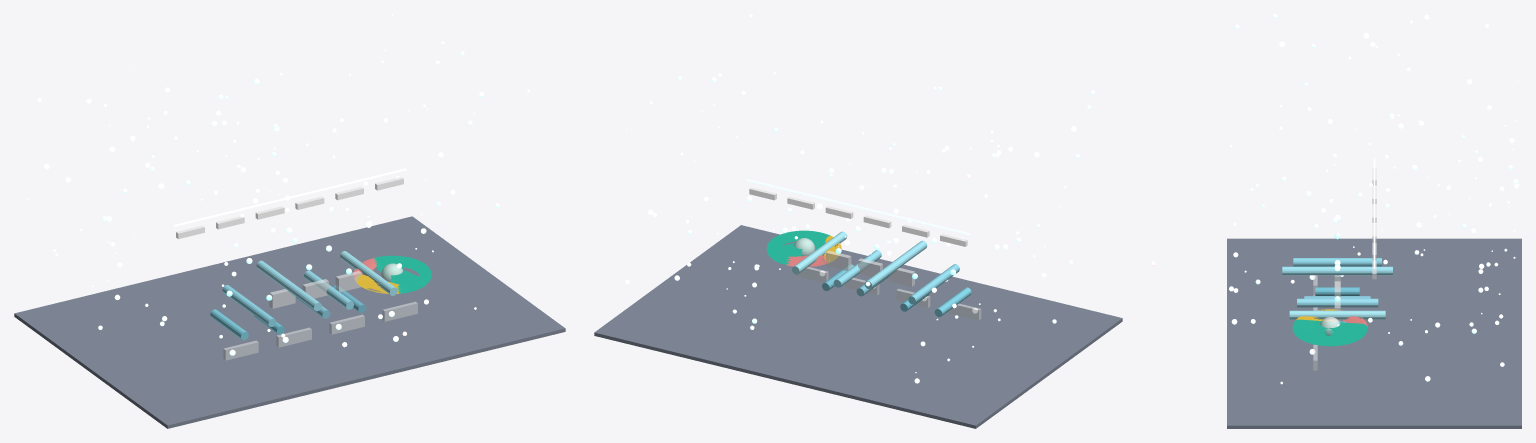
3 views of the same model, side by side, from view 1: azimuth 30°, elevation 25°; view 2: azimuth 150°, elevation 25°; view 3: azimuth 270°, elevation 25° (orthographic). The views are drawn at different scales.
Parts seen in each view (by area): view 1: floor, 图表_环形图_實到, 图表_柱状图_柱子4, 装饰_顶线, 图表_柱状图_柱子8, 图表_柱状图_柱子2, 图表_柱状图_柱子6; view 2: floor, 图表_环形图_實到, 图表_柱状图_柱子4, 装饰_顶线, 图表_柱状图_柱子8, 图表_柱状图_柱子2, 图表_柱状图_柱子6; view 3: floor, 图表_环形图_實到, 图表_柱状图_柱子4, 图表_柱状图_柱子8, 图表_柱状图_柱子6, 图表_柱状图_柱子2, 图表_柱状图_柱子3.
Part boxes in pixels (x1=…): floor: x1=14, y1=216, x2=565, y2=428; 图表_环形图_實到: x1=374, y1=255, x2=431, y2=293; 图表_柱状图_柱子4: x1=256, y1=260, x2=321, y2=311; 装饰_顶线: x1=173, y1=168, x2=406, y2=226; 图表_柱状图_柱子8: x1=340, y1=251, x2=397, y2=295; 图表_柱状图_柱子2: x1=222, y1=285, x2=276, y2=326; 图表_柱状图_柱子6: x1=304, y1=270, x2=353, y2=309; floor: x1=594, y1=225, x2=1122, y2=428; 图表_环形图_實到: x1=766, y1=230, x2=830, y2=264; 图表_柱状图_柱子4: x1=864, y1=240, x2=927, y2=289; 装饰_顶线: x1=746, y1=179, x2=970, y2=235; 图表_柱状图_柱子8: x1=792, y1=231, x2=847, y2=274; 图表_柱状图_柱子2: x1=908, y1=264, x2=959, y2=304; 图表_柱状图_柱子6: x1=833, y1=250, x2=881, y2=287; floor: x1=1227, y1=238, x2=1521, y2=428; 图表_环形图_實到: x1=1292, y1=319, x2=1367, y2=346; 图表_柱状图_柱子4: x1=1282, y1=266, x2=1392, y2=275; 图表_柱状图_柱子8: x1=1289, y1=310, x2=1385, y2=319; 图表_柱状图_柱子6: x1=1297, y1=298, x2=1378, y2=307; 图表_柱状图_柱子2: x1=1293, y1=258, x2=1381, y2=266; 图表_柱状图_柱子3: x1=1315, y1=287, x2=1359, y2=295.
Size of the model in its own units: 6 by 3.58 by 5.03.
